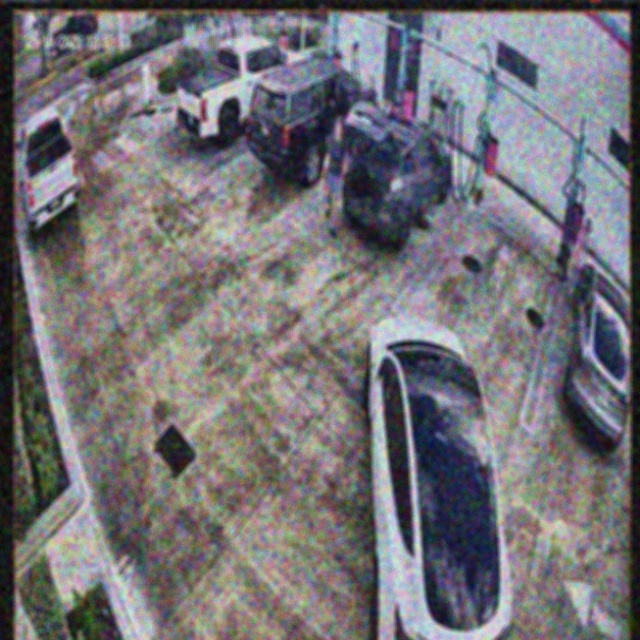Car: (367, 293, 514, 640), (249, 46, 376, 179), (342, 97, 452, 248)
